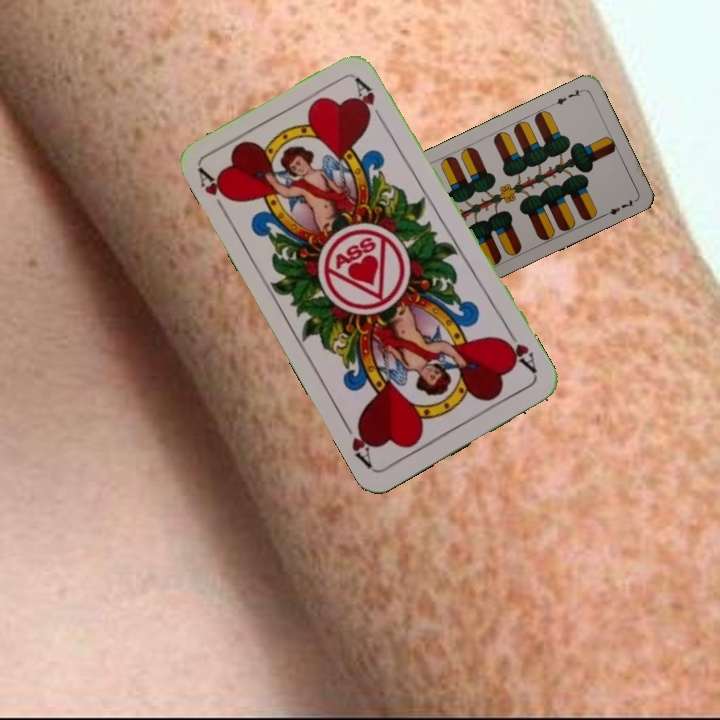E7: (548, 85, 586, 108)
HA: (194, 165, 236, 220), (497, 324, 540, 376)
